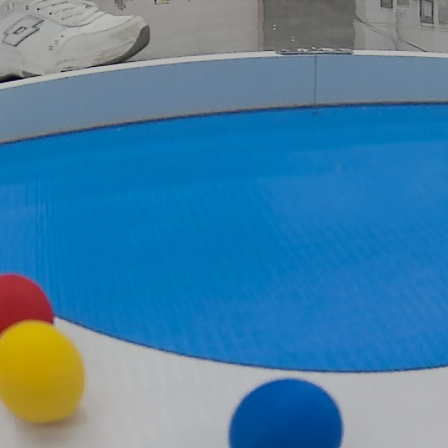blue: (227, 374, 361, 448)
blue_base: (1, 101, 448, 379)
red: (2, 271, 56, 358)
yellow: (0, 317, 88, 428)
